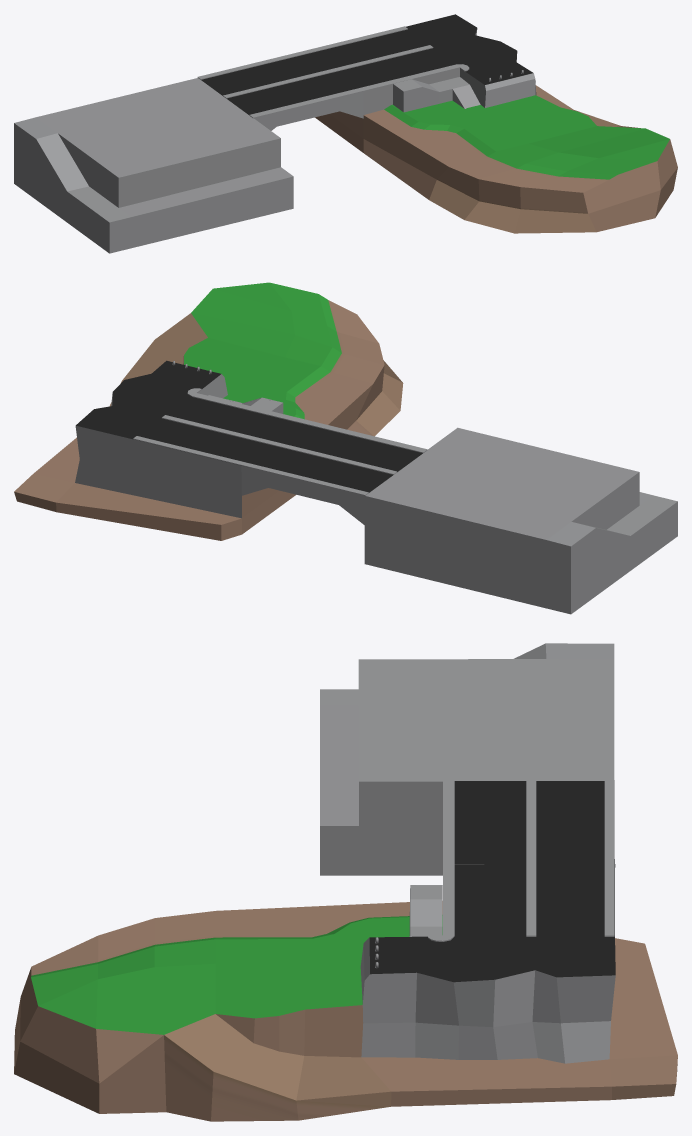
Rendered from apocalipse_scenario.glb.
3 views of the same model, one above another, from view 1: azimuth 30°, elevation 25°; view 2: azimuth 150°, elevation 25°; view 3: azimuth 270°, elevation 25° (orthographic). The views are drawn at different scales.
Parts seen in each view (by area): view 1: Cube.001; view 2: Cube.001; view 3: Cube.001.
Part boxes in pixels (x1,y1,x2,y2): Cube.001: (14, 14, 677, 253); Cube.001: (14, 282, 677, 614); Cube.001: (14, 643, 677, 1121).
Size of the model in its own units: 320 by 41.77 by 237.
4 materials, 1 textured.
